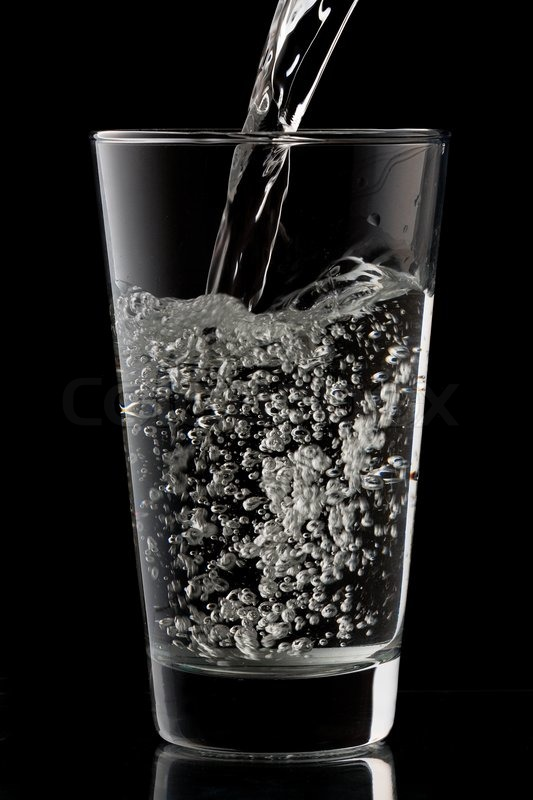glass of water: (94, 132, 435, 747)
